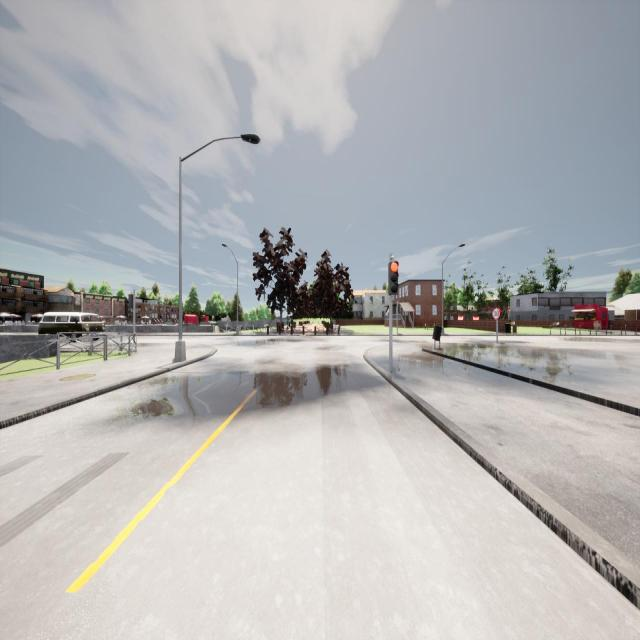Pedestrian: (288, 315, 294, 334)
Traffic_Signs: (492, 308, 501, 320)
Vehicle: (38, 312, 104, 342)
traffic_light: (388, 262, 400, 295), (128, 294, 134, 309)
